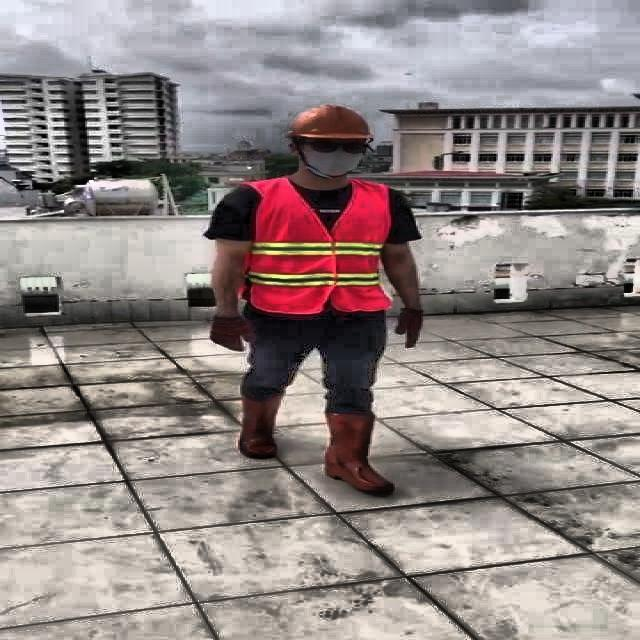safety_helmet: (286, 102, 373, 141)
safety_jacket: (240, 180, 391, 313)
